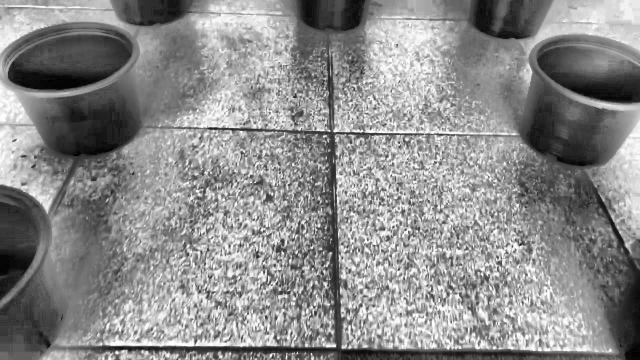pot: (0, 22, 144, 158), (519, 34, 640, 168)
